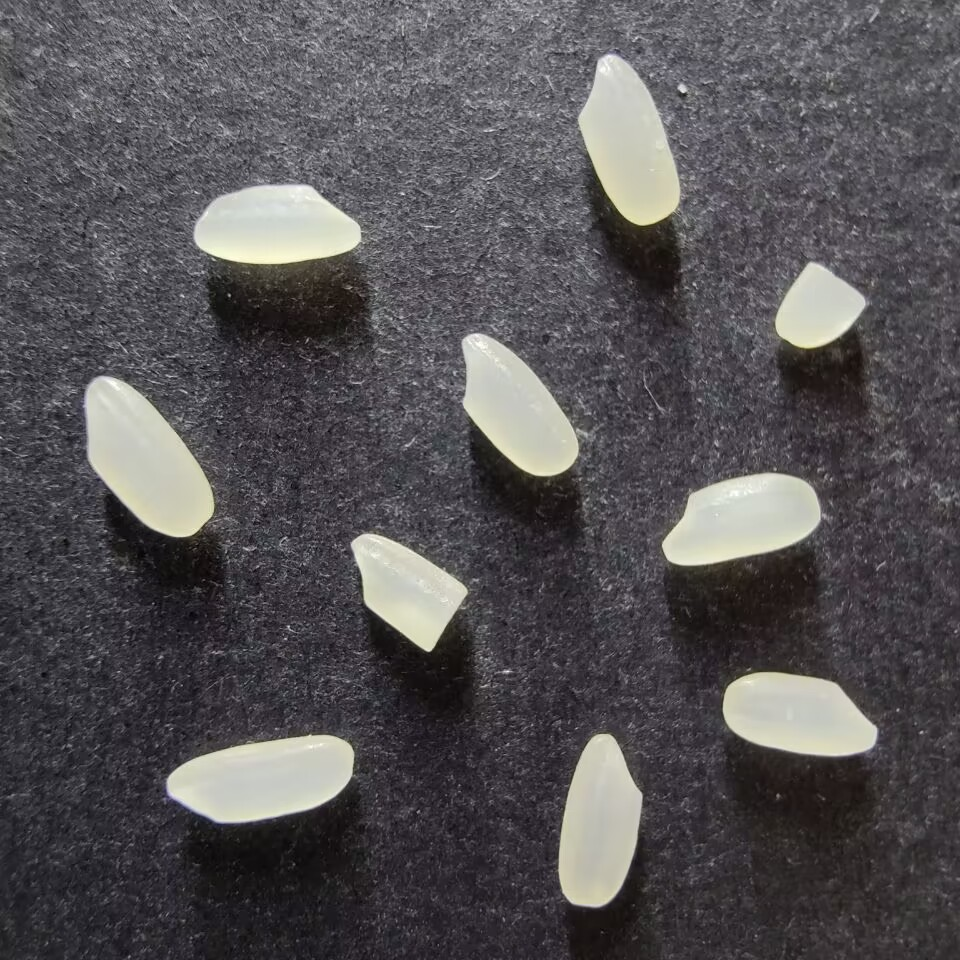broken: (351, 533, 467, 652), (774, 261, 866, 348)
rice: (83, 375, 214, 537), (576, 54, 680, 226), (461, 332, 578, 476), (165, 734, 353, 823), (661, 473, 821, 566), (557, 733, 641, 906), (192, 184, 361, 265), (721, 672, 877, 756)
